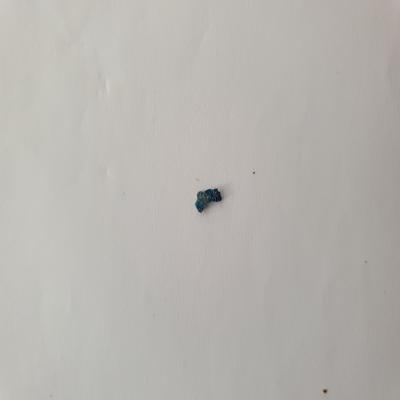plastic: (193, 183, 226, 218)
